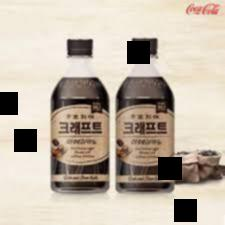georgiacraft_black: (111, 31, 176, 198), (47, 31, 112, 198)
